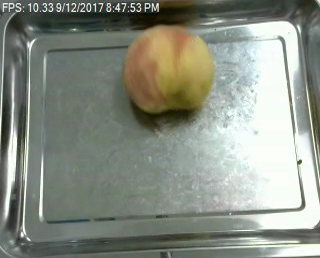Peach: (123, 25, 214, 114)
